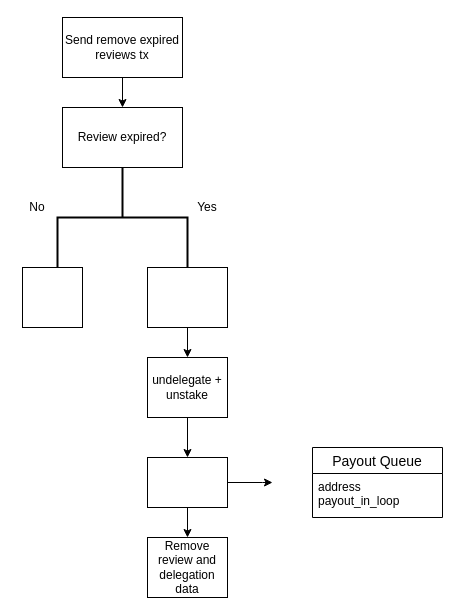
This 460x615 diagram has some shape labels left out. The shapes that lost their labels are listed below. From the top down, each one's centre as x and y in pixels, then its label:
At point 52,297: "Revert".
At point 187,297: "Calculate staking rewards".
At point 187,482: "Add entry to payout queue".
